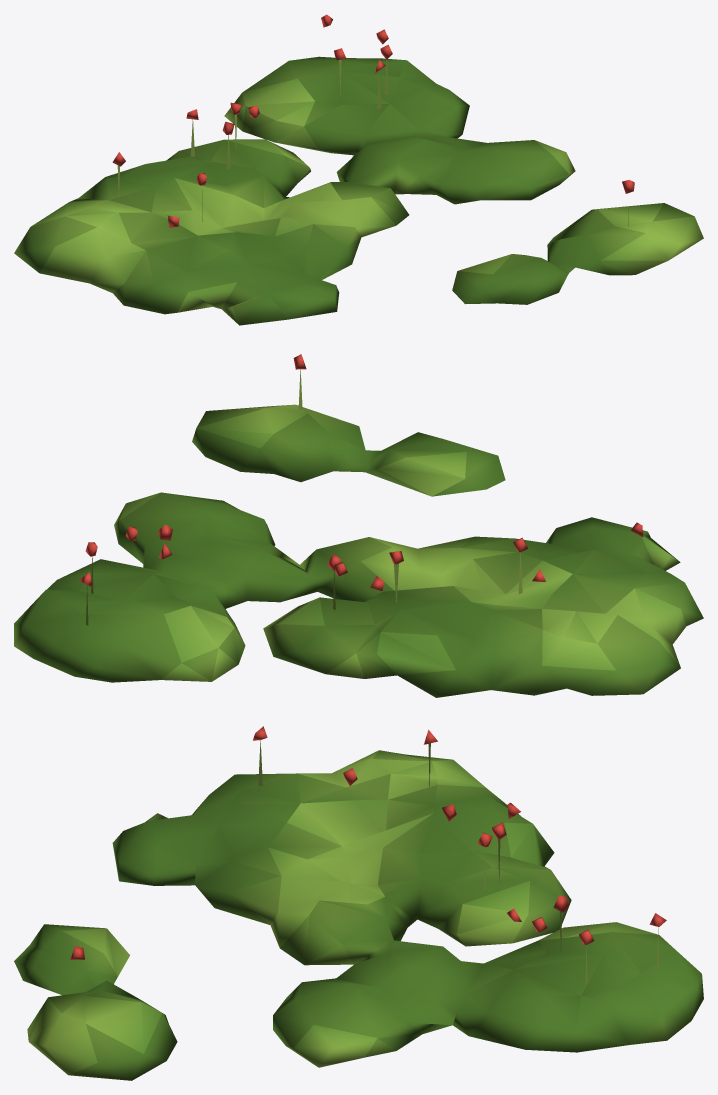
Rendered from glade_gc_moss_patch_c_lod1.glb.
3 views of the same model, one above another, from view 1: azimuth 30°, elevation 25°; view 2: azimuth 150°, elevation 25°; view 3: azimuth 270°, elevation 25° (orthographic). The views are drawn at different scales.
Visible parts, largest first — view 1: glade_gc_moss_patch_c.001; view 2: glade_gc_moss_patch_c.001; view 3: glade_gc_moss_patch_c.001.
Part boxes in pixels (x1,y1,x2,y2): glade_gc_moss_patch_c.001: (14, 14, 703, 325); glade_gc_moss_patch_c.001: (14, 354, 703, 697); glade_gc_moss_patch_c.001: (14, 726, 703, 1080).
Size of the model in its own units: 7.66 by 1.18 by 7.18.
